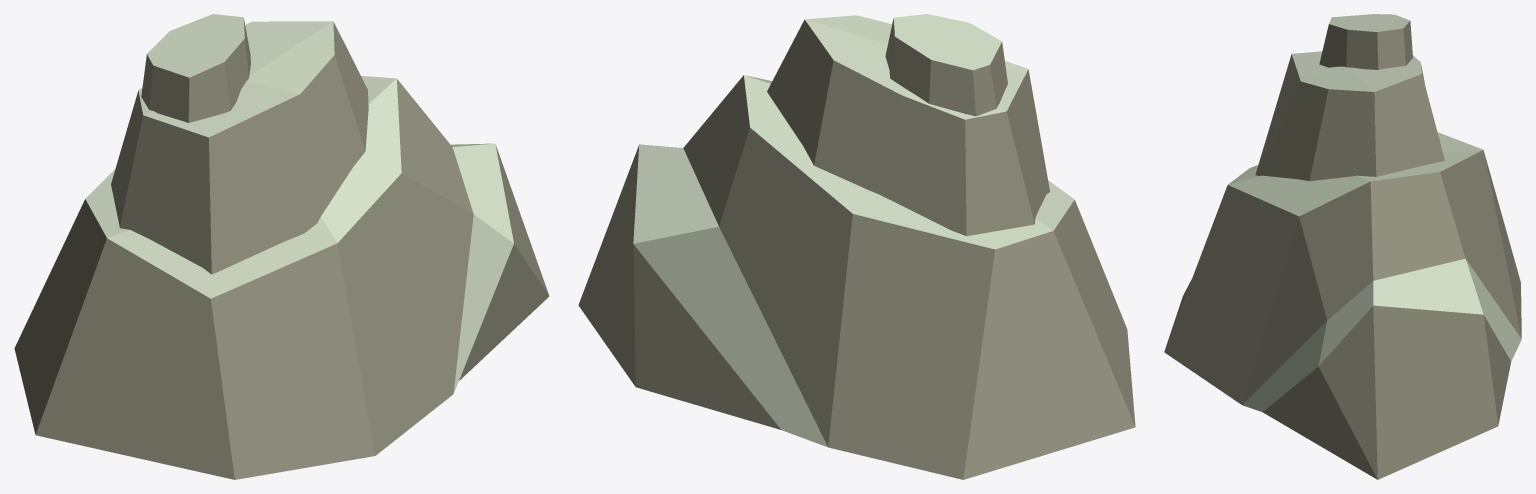
Rendered from SM_L_Env_Mountain.fbx.
The picture shows the model from 3 angles, left to right: view 1: azimuth 30°, elevation 25°; view 2: azimuth 150°, elevation 25°; view 3: azimuth 270°, elevation 25°; orthographic projection. The views are drawn at different scales.
Visible parts, largest first — view 1: SM_L_Env_Mountain; view 2: SM_L_Env_Mountain; view 3: SM_L_Env_Mountain.
Part boxes in pixels (x1,y1,x2,y2): SM_L_Env_Mountain: (14, 14, 549, 479); SM_L_Env_Mountain: (578, 14, 1135, 479); SM_L_Env_Mountain: (1164, 14, 1521, 479).
Size of the model in its own units: 837 by 536 by 552.
1 material, 1 textured.
